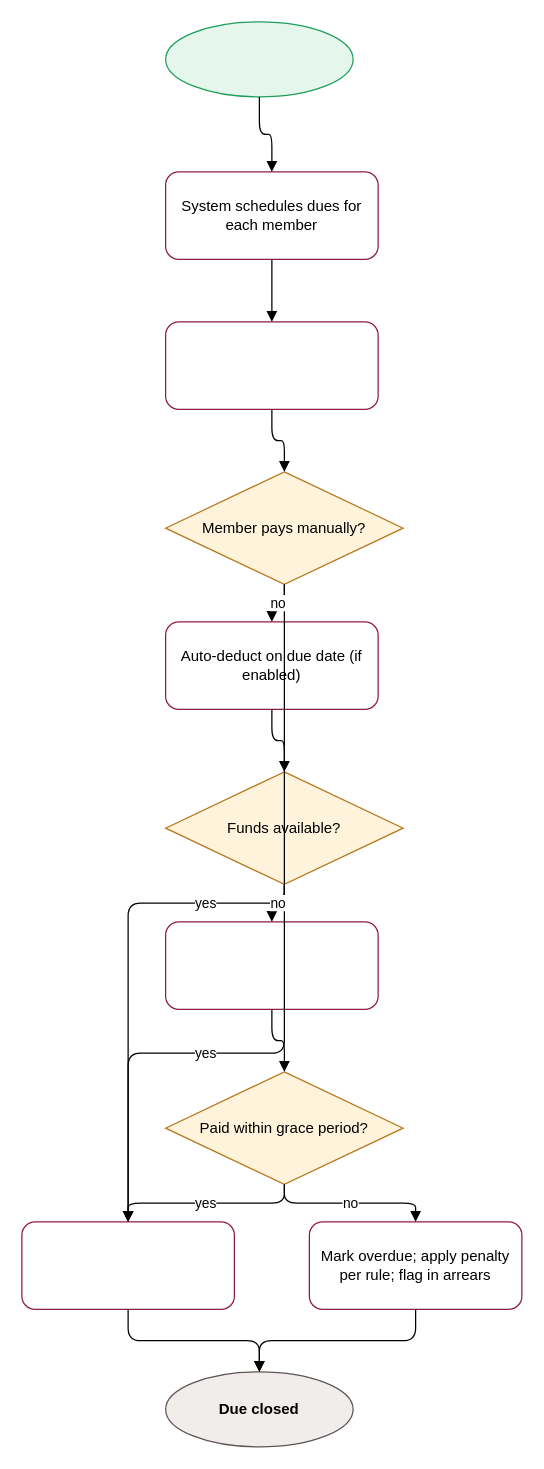
Some shapes in this 544 by 1469 pixel diagram are drawn without their labels. Here are the shapes that lost their labels. From the top down, the centre of each, then its label:
At point (258, 59): "Admin creates plan (frequency, amount)".
At point (271, 365): "Reminder before due date".
At point (271, 965): "Retry per rule; reminders".
At point (127, 1265): "Post: member account to cooperative account; update savings".
